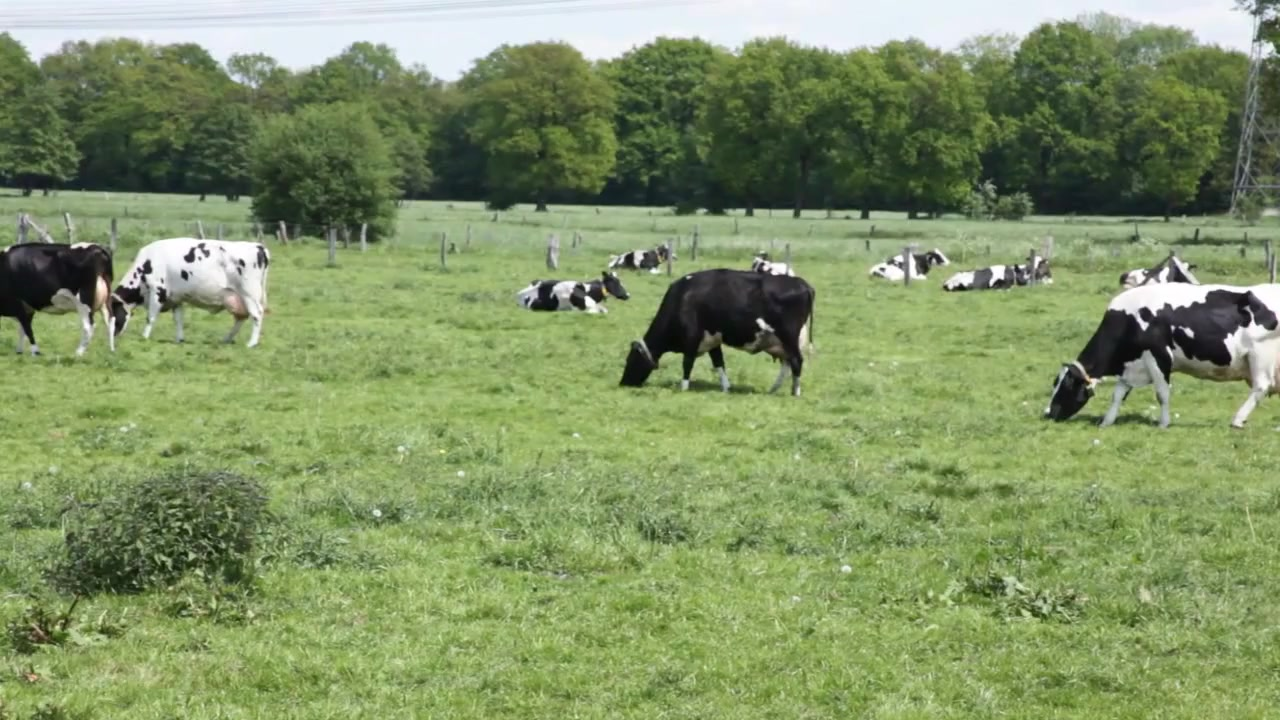cow: (617, 271, 824, 395)
